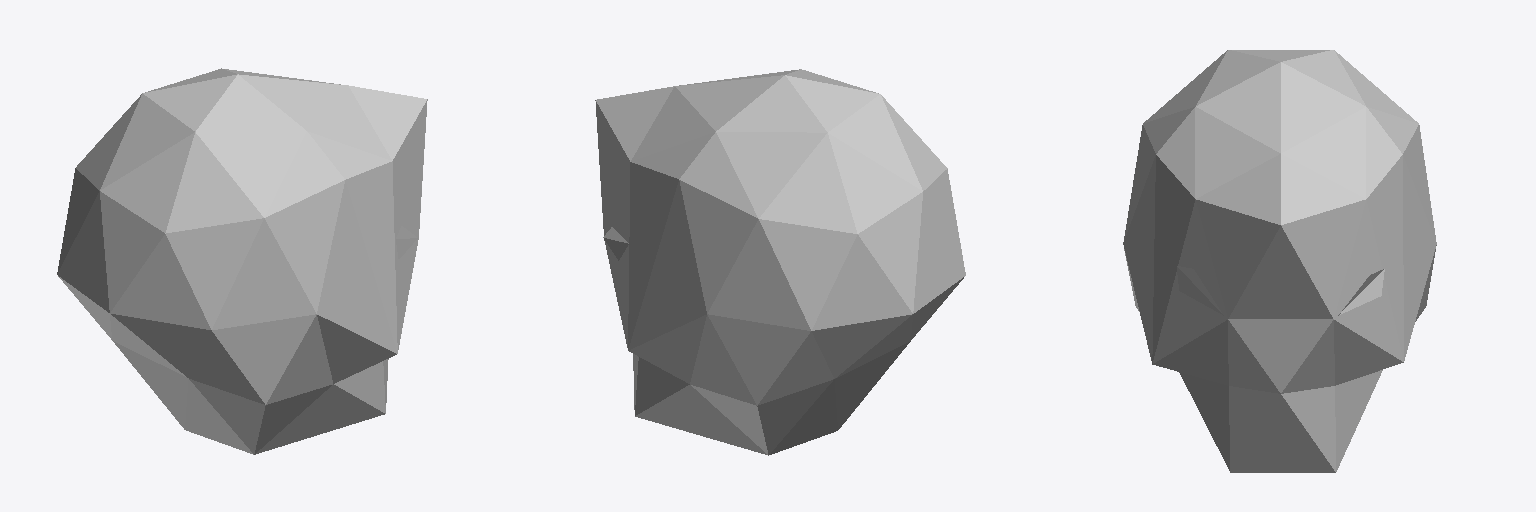
The model's file is follower head.obj.
The picture shows the model from 3 angles: view 1: azimuth 30°, elevation 25°; view 2: azimuth 150°, elevation 25°; view 3: azimuth 270°, elevation 25°; orthographic projection.
Visible parts, largest first — view 1: Head; view 2: Head; view 3: Head, Plane, Plane.001.
Boxes of the visible parts, x1,y1,x2,y2 form: Head: [57, 68, 427, 454]; Head: [595, 69, 965, 455]; Head: [1123, 50, 1436, 472]; Plane: [1177, 266, 1223, 315]; Plane.001: [1338, 269, 1384, 315].
Bounding box in the file's own units: 1.54 × 1.59 × 1.22.